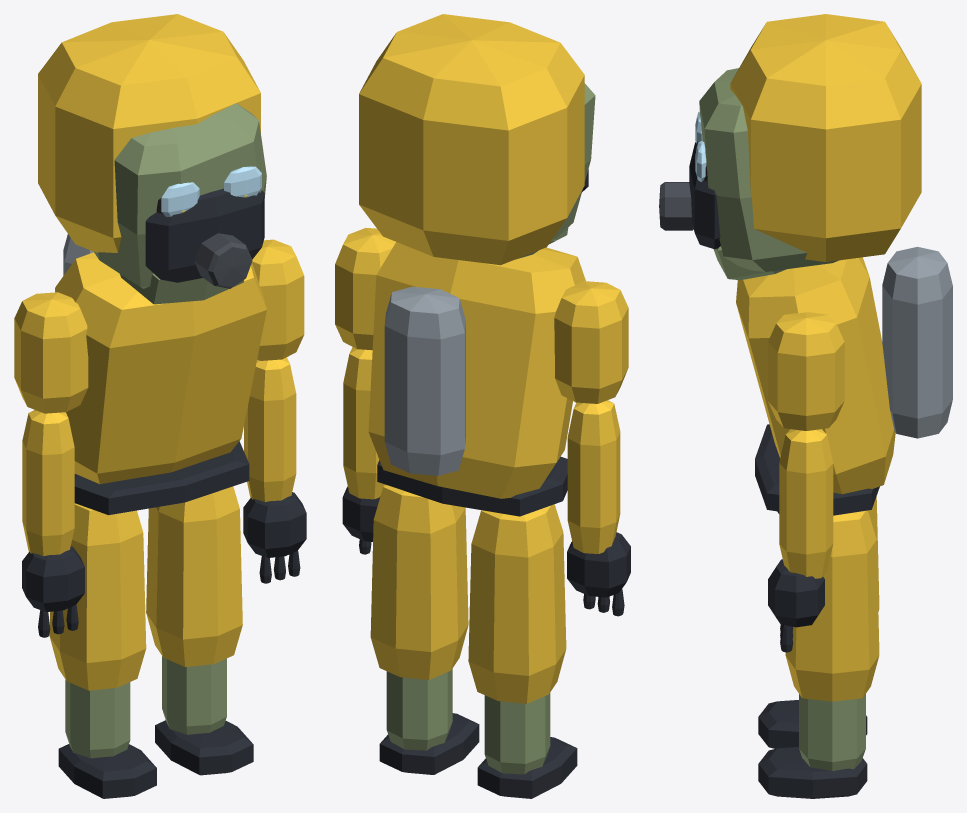
The model's file is mon-hazmat-1.glb.
3 views of the same model, side by side, from view 1: azimuth 30°, elevation 25°; view 2: azimuth 150°, elevation 25°; view 3: azimuth 270°, elevation 25° (orthographic).
Parts seen in each view (by area): view 1: head, torso, leg-left, leg-right, arm-right, arm-left; view 2: head, torso, leg-right, leg-left, arm-right, arm-left; view 3: head, torso, leg-left, arm-left, leg-right.
Part boxes in pixels (x1,y1,x2,y2): head: (38, 14, 266, 304); torso: (55, 234, 266, 515); leg-left: (146, 486, 253, 775); leg-right: (49, 503, 156, 798); arm-right: (14, 292, 88, 637); arm-left: (243, 239, 306, 583); head: (359, 14, 595, 265); torso: (368, 242, 585, 516); leg-right: (468, 504, 577, 798); leg-left: (370, 484, 479, 774); arm-right: (554, 281, 630, 616); arm-left: (335, 228, 395, 554); head: (659, 14, 921, 280); torso: (736, 246, 952, 515); leg-left: (758, 510, 879, 798); arm-left: (768, 312, 844, 652); leg-right: (758, 496, 879, 748).
Bounding box in the file's own units: 0.9745 × 2.44 × 0.8981.
